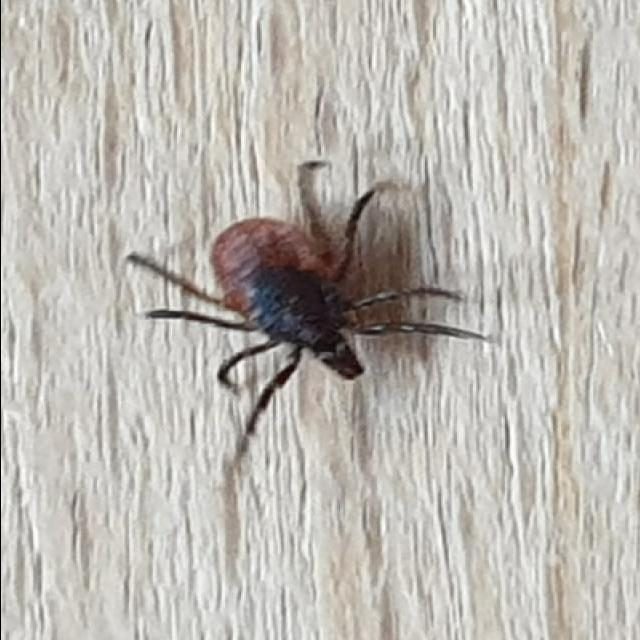Ixodes Ricinus-F: (126, 161, 488, 457)
